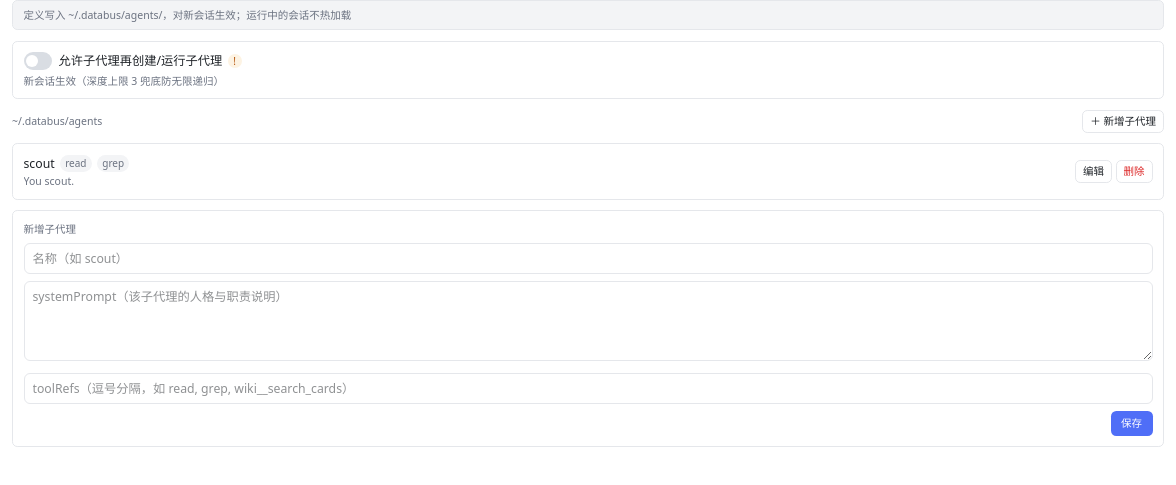
Test: SubAgentPanel 关键交互 › 空表单提交 → 本地必填校验文案，不发 subagent.upsert
expect the text "scout" is shown: met, box [24,155,55,172]
Click the button "保存".
click(1132, 423)  # box [1110,411,1152,436]
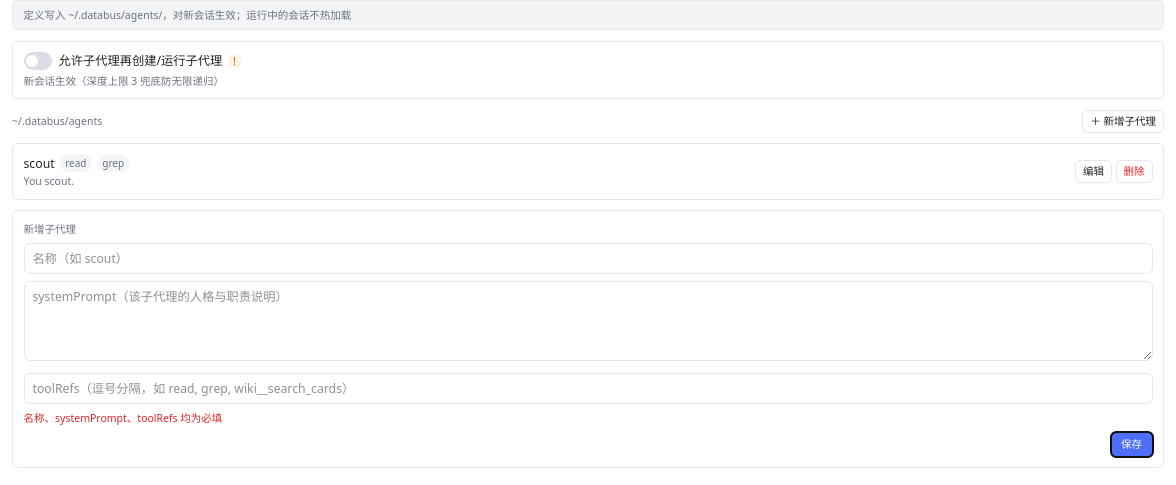
expect the text "名称、systemPrompt、toolRefs 均为必填" is shown: met, box [24,411,222,425]
